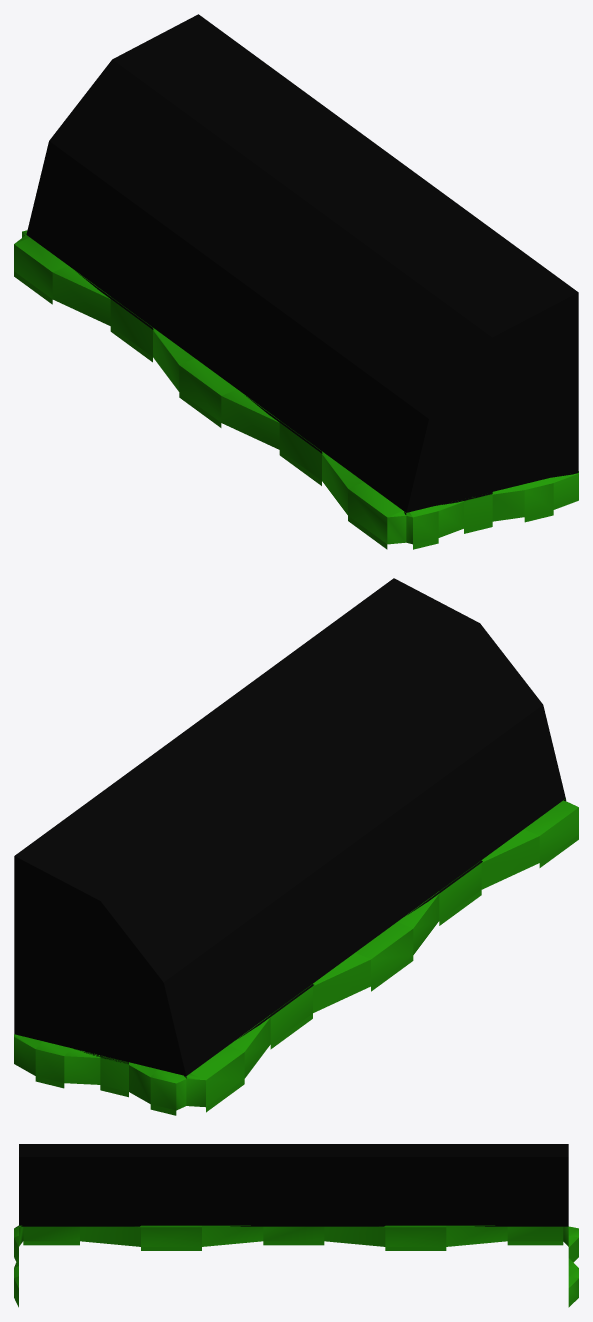
File: Awning02_KW.fbx
3 views of the same model, one above another, from view 1: azimuth 30°, elevation 25°; view 2: azimuth 150°, elevation 25°; view 3: azimuth 270°, elevation 25° (orthographic). The views are drawn at different scales.
Visible parts, largest first — view 1: Awning02_KW; view 2: Awning02_KW; view 3: Awning02_KW.
Part boxes in pixels (box(x1,y1,x2,y2)): Awning02_KW: box(14, 14, 578, 549); Awning02_KW: box(14, 578, 578, 1115); Awning02_KW: box(14, 1144, 578, 1307).
Size of the model in its own units: 172 by 186 by 616.
